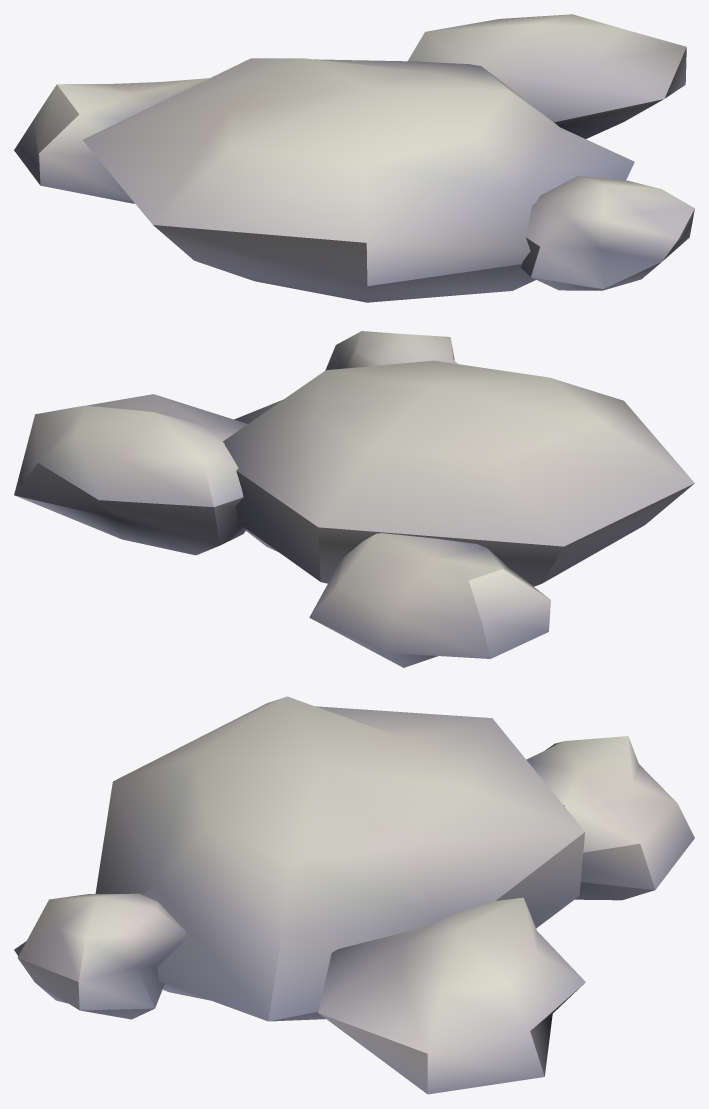
Rendered from rocks.glb.
3 renders of one model, top to bottom at view 1: azimuth 30°, elevation 25°; view 2: azimuth 150°, elevation 25°; view 3: azimuth 270°, elevation 25°, orthographic. The views are drawn at different scales.
Parts seen in each view (by area): view 1: rocks; view 2: rocks; view 3: rocks.
Part boxes in pixels (bbox=[...]): rocks: bbox=[14, 14, 694, 302]; rocks: bbox=[14, 331, 694, 667]; rocks: bbox=[14, 696, 694, 1094].
Size of the model in its own units: 1.02 by 0.2734 by 0.9044.
